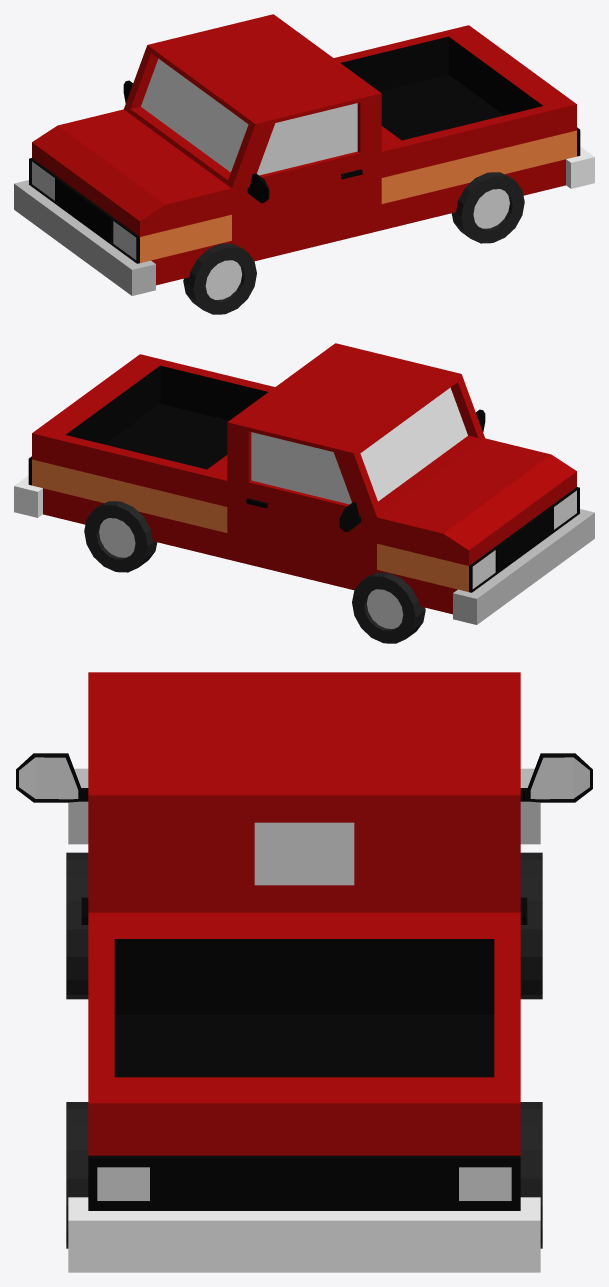
File: redtruck.fbx
3 views of the same model, one above another, from view 1: azimuth 30°, elevation 25°; view 2: azimuth 150°, elevation 25°; view 3: azimuth 270°, elevation 25° (orthographic). The views are drawn at different scales.
Visible parts, largest first — view 1: Cube, Cylinder, Cube.002, Cube.003; view 2: Cube, Cylinder, Cube.002, Cube.003; view 3: Cube, Cube.003, Cylinder, Cube.002.
Boxes of the visible parts, box(x1,y1,x2,y2) form: Cube: box(29, 14, 580, 285); Cylinder: box(183, 172, 524, 314); Cube.002: box(14, 180, 155, 295); Cube.003: box(566, 146, 594, 188); Cube: box(28, 343, 579, 614); Cylinder: box(84, 501, 425, 643); Cube.002: box(453, 509, 594, 624); Cube.003: box(14, 475, 42, 517); Cube: box(16, 672, 592, 1210); Cube.003: box(68, 1197, 540, 1272); Cylinder: box(66, 852, 542, 1248); Cube.002: box(68, 768, 540, 844).
Size of the model in its own units: 741 by 272 by 400.
